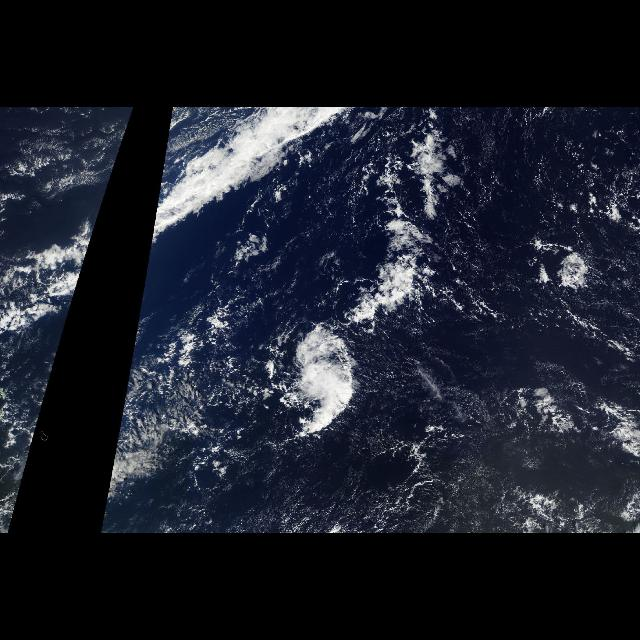Fish: (352, 148, 448, 344), (139, 165, 261, 307), (10, 165, 114, 307)
Sugar: (504, 117, 636, 370)
